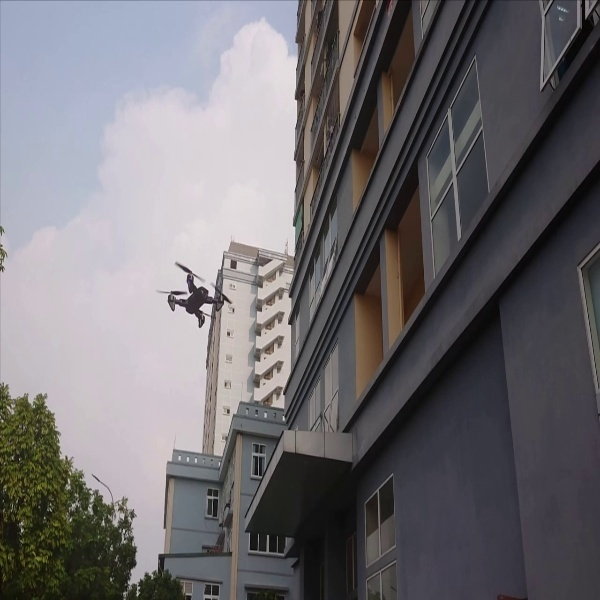drone: (146, 250, 240, 336)
